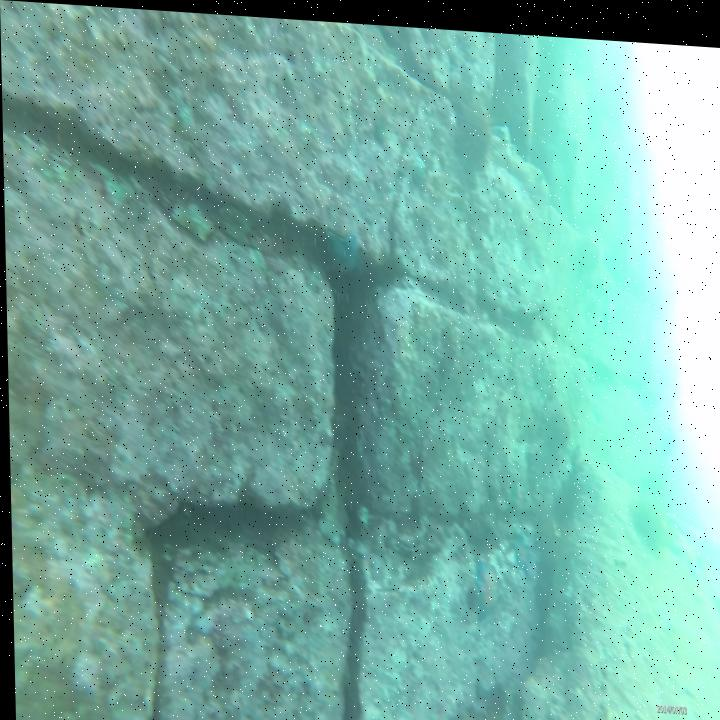echinus: (453, 77, 495, 165)
starfish: (320, 213, 363, 277), (468, 542, 500, 615), (505, 518, 535, 576)
